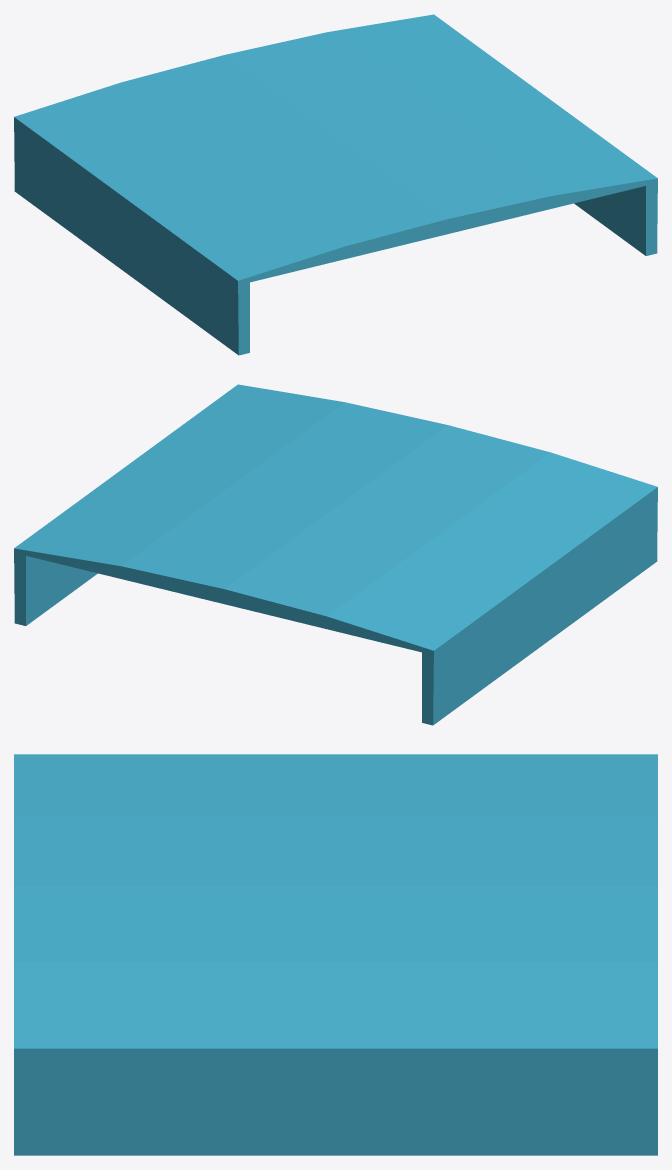
The model's file is Itr_Bed_Double_Blanket_07.FBX.
3 views of the same model, one above another, from view 1: azimuth 30°, elevation 25°; view 2: azimuth 150°, elevation 25°; view 3: azimuth 270°, elevation 25° (orthographic). The views are drawn at different scales.
Parts seen in each view (by area): view 1: Itr_Bed_Double_Blanket_07; view 2: Itr_Bed_Double_Blanket_07; view 3: Itr_Bed_Double_Blanket_07.
Boxes of the visible parts, x1=… form: Itr_Bed_Double_Blanket_07: x1=14, y1=14, x2=657, y2=355; Itr_Bed_Double_Blanket_07: x1=14, y1=384, x2=657, y2=725; Itr_Bed_Double_Blanket_07: x1=14, y1=754, x2=657, y2=1155.
Bounding box in the file's own units: 70.21 × 13.65 × 64.86.
